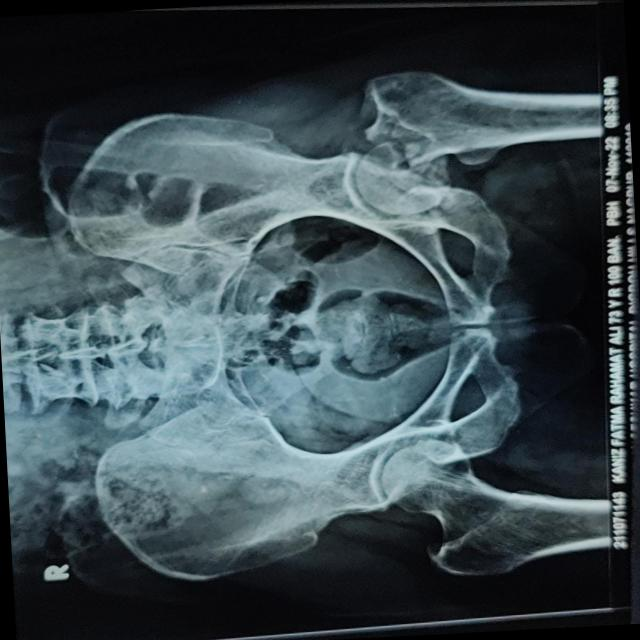left-neck: (360, 70, 579, 166), (356, 140, 449, 213)
normal-right: (381, 439, 606, 575)
